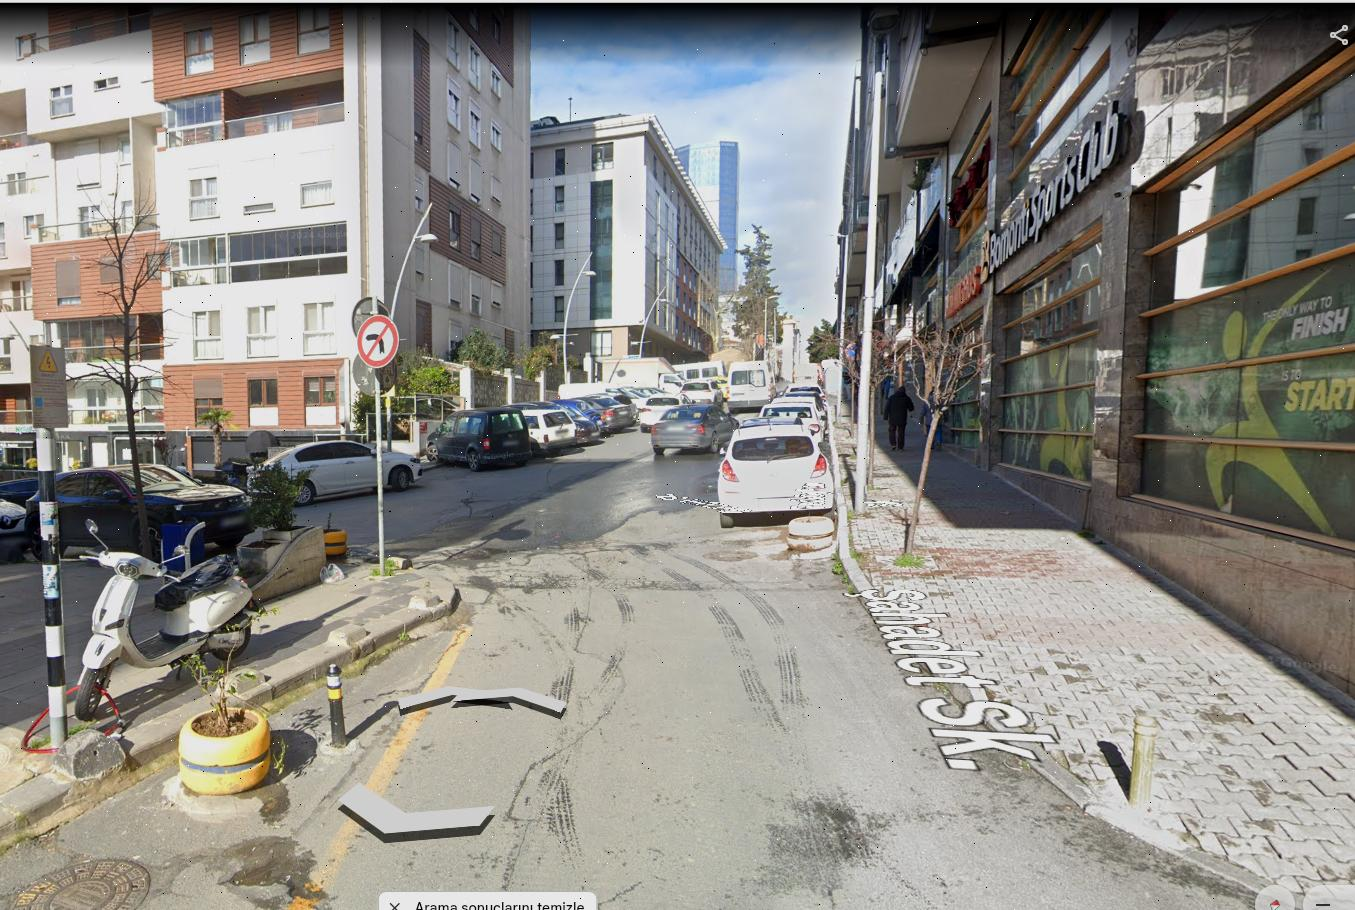rightturnsareforbidden: (358, 317, 400, 367)
